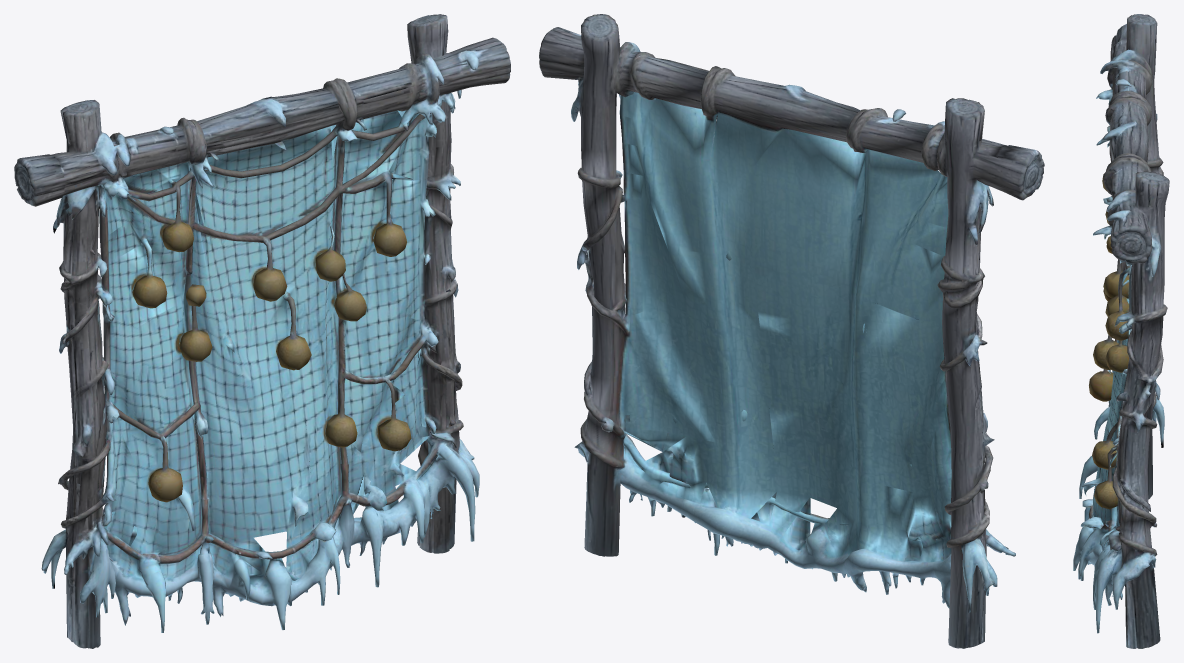
The model's file is lm_frost_veil_net.glb.
3 renders of one model, left to right at view 1: azimuth 30°, elevation 25°; view 2: azimuth 150°, elevation 25°; view 3: azimuth 270°, elevation 25°, orthographic. The views are drawn at different scales.
Parts seen in each view (by area): view 1: lm_frost_veil_net-convcol; view 2: lm_frost_veil_net-convcol; view 3: lm_frost_veil_net-convcol.
Boxes of the visible parts, x1,y1,x2,y2 form: lm_frost_veil_net-convcol: (14,14,510,648); lm_frost_veil_net-convcol: (539,14,1044,648); lm_frost_veil_net-convcol: (1073,14,1169,648).
Size of the model in its own units: 3.72 by 4 by 0.728.
1 material, 1 textured.
